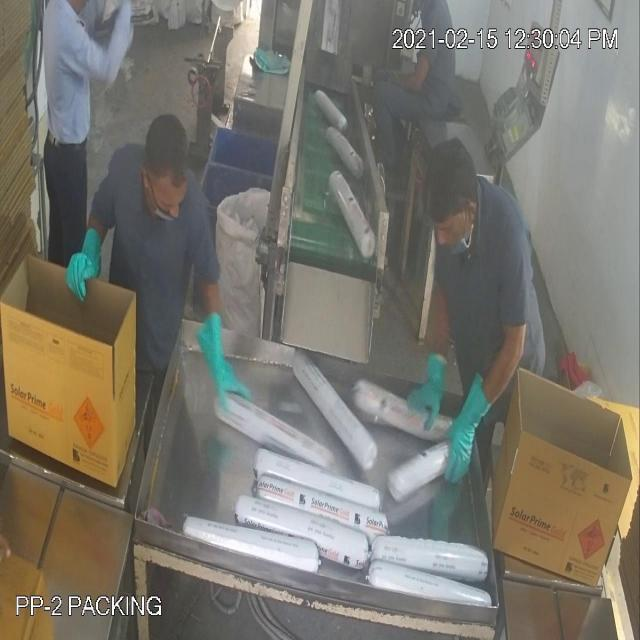Gloves: (59, 42, 460, 430)
